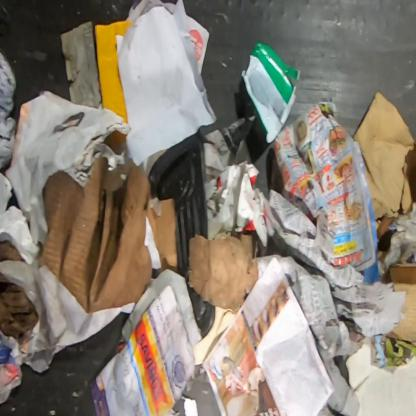cardboard: (38, 155, 178, 314), (354, 90, 415, 242), (189, 233, 258, 312), (0, 240, 38, 348), (387, 263, 415, 346)
rigid_plastic: (146, 134, 216, 338), (242, 40, 301, 144)
